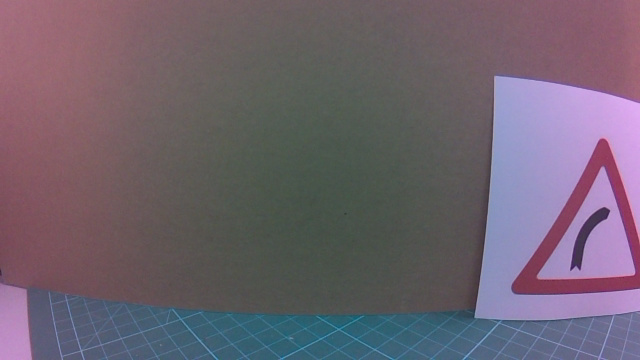right: (481, 135, 640, 311)
